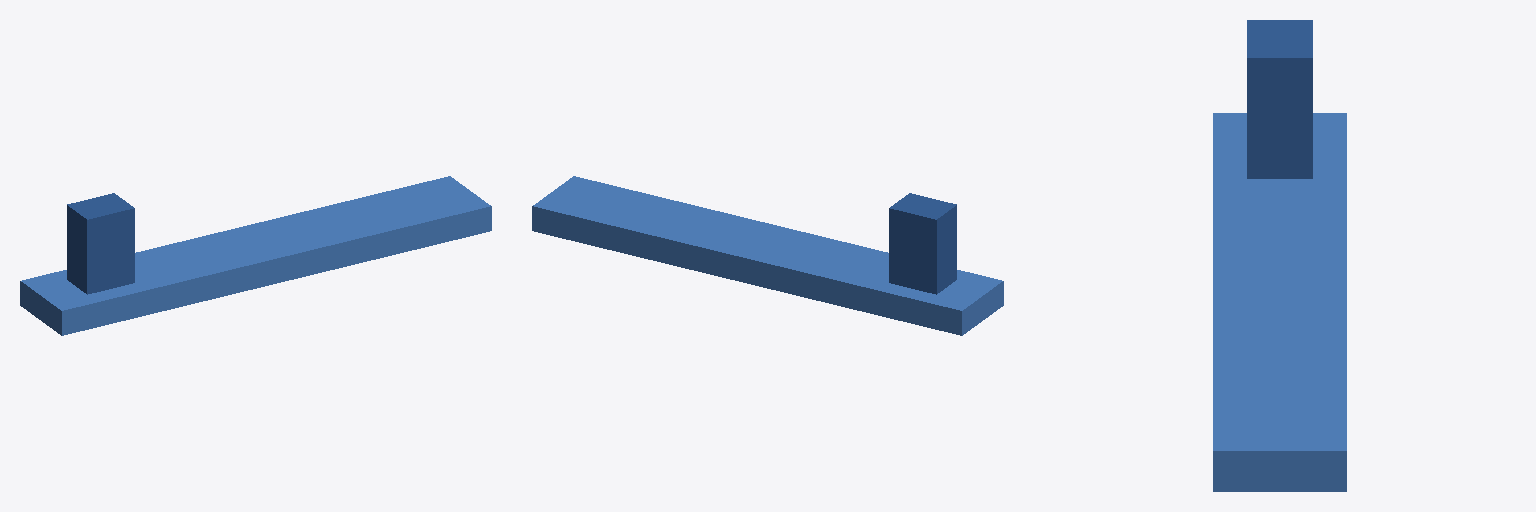
URDF robot description (part4):
<?xml version="1.0"?>
<!-- GENERATED by build_scene.py: edit the generator, not this file. -->
<robot name="part4">
  <link name="base_link">
    <inertial>
      <mass value="0.2"/>
      <inertia ixx="1e-4" ixy="0" ixz="0" iyy="1e-4" iyz="0" izz="1e-4"/>
    </inertial>
    <visual>
      <origin xyz="0 0 0"/>
      <geometry><box size="0.36 0.06 0.02"/></geometry>
      <material name="base_link_mat"><color rgba="0.35 0.55 0.80 1"/></material>
    </visual>
    <collision>
      <origin xyz="0 0 0"/>
      <geometry><box size="0.36 0.06 0.02"/></geometry>
    </collision>
  </link>
  <link name="tab">
    <visual>
      <origin xyz="-0.13 0 0.04"/>
      <geometry><box size="0.04 0.03 0.06"/></geometry>
      <material name="tab_mat"><color rgba="0.25 0.42 0.65 1"/></material>
    </visual>
    <collision>
      <origin xyz="-0.13 0 0.04"/>
      <geometry><box size="0.04 0.03 0.06"/></geometry>
    </collision>
  </link>
  <joint name="tab_fixed" type="fixed">
    <parent link="base_link"/>
    <child link="tab"/>
  </joint>
</robot>

--- Render facts (derived) ---
The picture shows the robot from 3 angles, left to right: view 1: azimuth 30°, elevation 25°; view 2: azimuth 150°, elevation 25°; view 3: azimuth 270°, elevation 25°; orthographic projection.
Robot: part4 — 2 links, 1 joints (1 fixed); root link base_link; default pose: all joints at 0.
Links seen in each view (by area): view 1: base_link, tab; view 2: base_link, tab; view 3: base_link, tab.
Link boxes in pixels (x1,y1,x2,y2): base_link: (20,176,491,335); tab: (67,193,134,294); base_link: (532,176,1003,335); tab: (889,193,956,294); base_link: (1213,113,1346,491); tab: (1247,20,1312,178).
Bounding box of the posed robot: 0.36 × 0.06 × 0.08 m (x, y, z).
Geometry: primitives only (box / cylinder / sphere), no mesh files.
